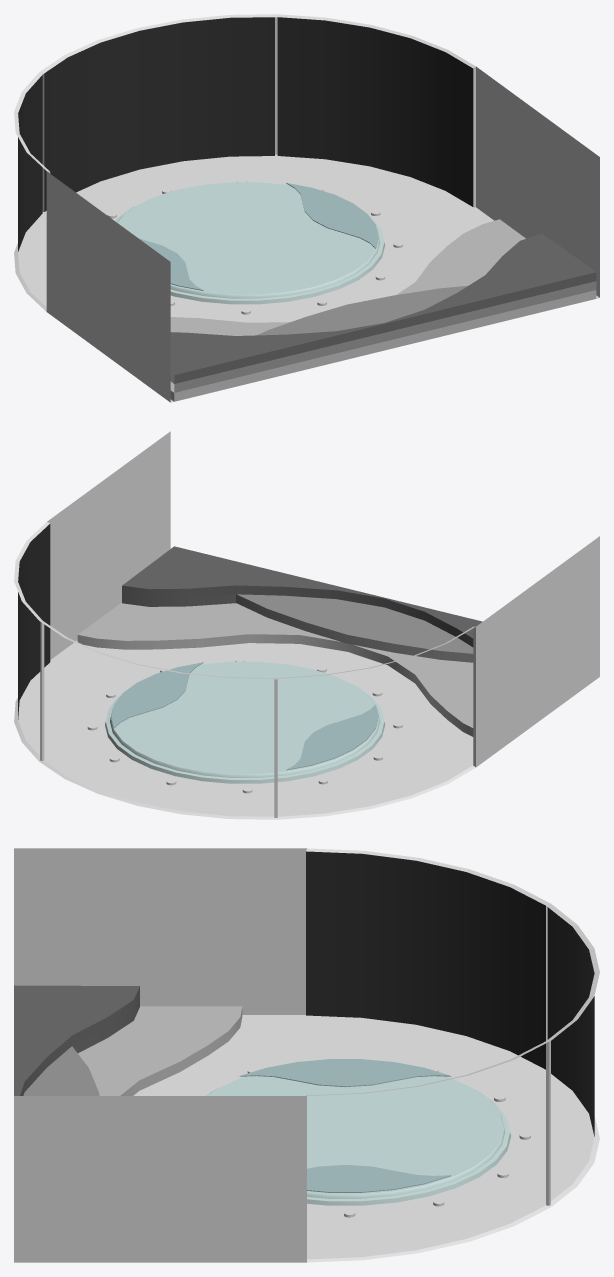
The model's file is BTU_Map_Sketch Modeling2.fbx.
3 renders of one model, top to bottom at view 1: azimuth 30°, elevation 25°; view 2: azimuth 150°, elevation 25°; view 3: azimuth 270°, elevation 25°, orthographic. The views are drawn at different scales.
Visible parts, largest first — view 1: Base Wall.004, Base Wall.001, Cylinder.001, Audience Stair.005, Audience Stair.003, Audience Stair.004, Cylinder.003; view 2: Base Wall.001, Cylinder.001, Audience Stair.003, Audience Stair.005, Audience Stair.004, Cylinder.003, Base Wall.004, Cylinder.002; view 3: Base Wall.001, Base Wall.004, Cylinder.001, Audience Stair.003, Audience Stair.005, Cylinder.003, Audience Stair.004.
Part boxes in pixels (x1,y1,x2,y2): Base Wall.004: (18,17,473,251); Base Wall.001: (14,14,599,402); Cylinder.001: (115,182,385,304); Audience Stair.005: (170,233,596,383); Audience Stair.003: (170,219,596,401); Audience Stair.004: (174,281,596,392); Cylinder.003: (139,183,378,290); Base Wall.001: (14,431,599,819); Cylinder.001: (105,661,385,783); Audience Stair.003: (77,602,473,736); Audience Stair.005: (122,546,482,647); Audience Stair.004: (236,594,473,662); Cylinder.003: (111,662,378,770); Base Wall.004: (18,524,50,719); Cylinder.002: (87,658,402,793); Base Wall.001: (14,848,599,1262); Base Wall.004: (306,851,594,1136); Cylinder.001: (206,1076,510,1205); Audience Stair.003: (78,1006,242,1095); Audience Stair.005: (14,985,139,1095); Cylinder.003: (239,1059,451,1192); Audience Stair.004: (23,1046,99,1095).
Bounding box in the file's own units: 4545 × 1430 × 4545.
